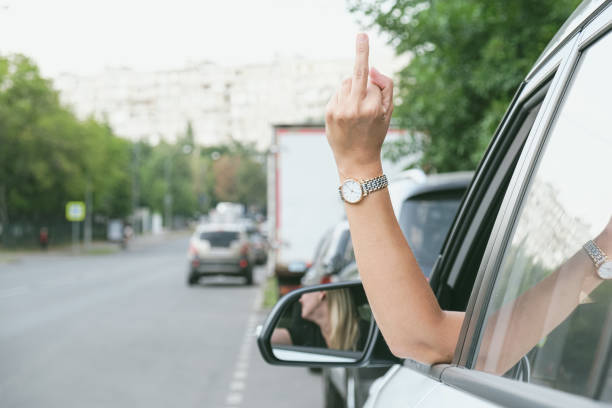insulting_gesture: (323, 30, 397, 156)
